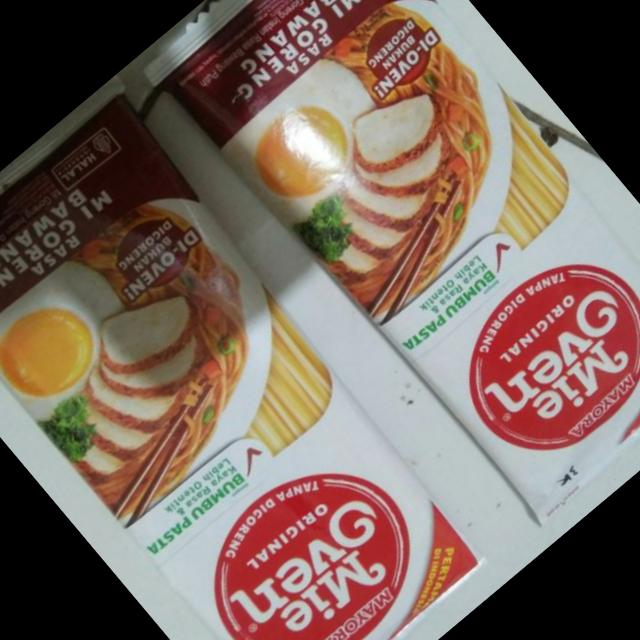KemasanPlastik: (135, 0, 640, 541), (0, 98, 497, 640)
